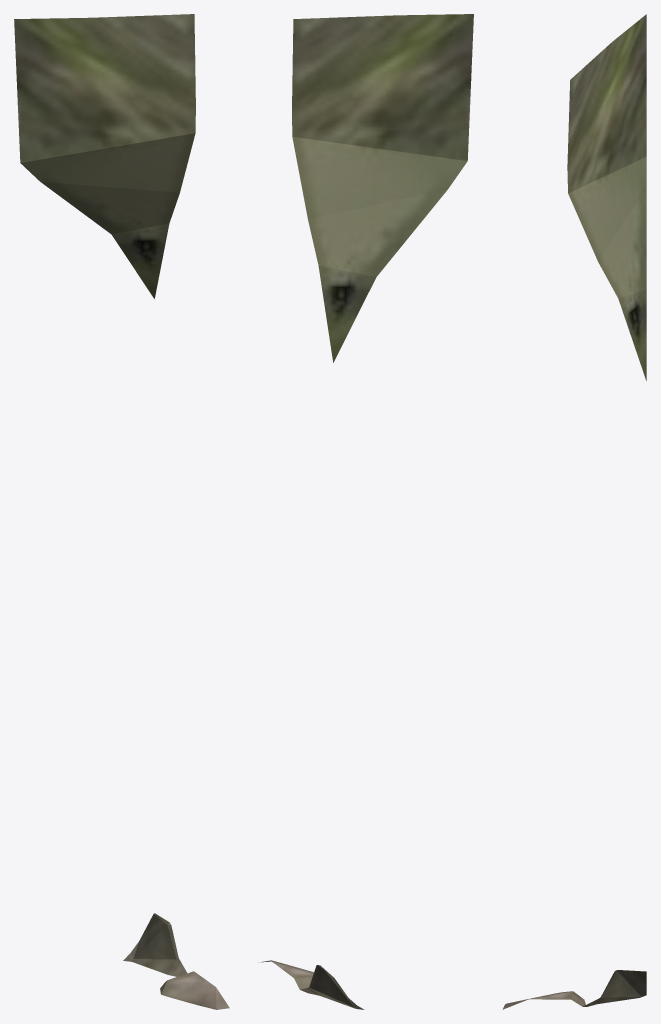
3 renders of one model, left to right at view 1: azimuth 30°, elevation 25°; view 2: azimuth 210°, elevation 25°; view 3: azimuth 270°, elevation 25°, orthographic. The views are drawn at different scales.
Bounding box in the file's own units: 1.79 × 11.8 × 1.66.
1 material, 1 textured.
